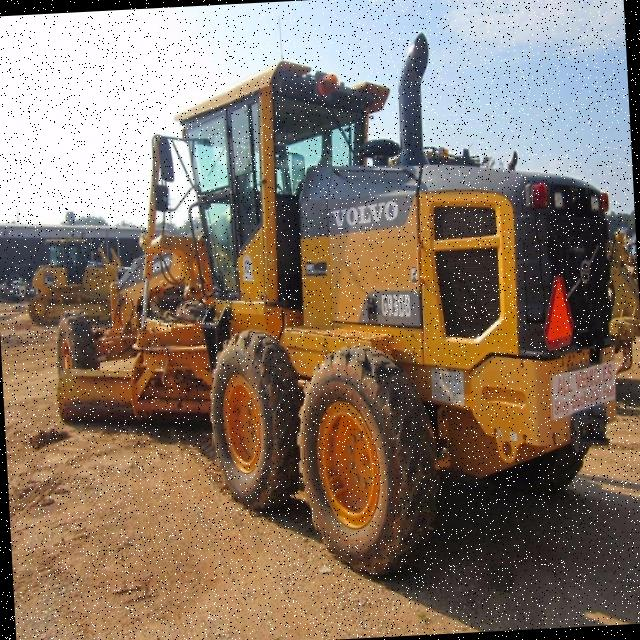Grader: (29, 21, 636, 594)
